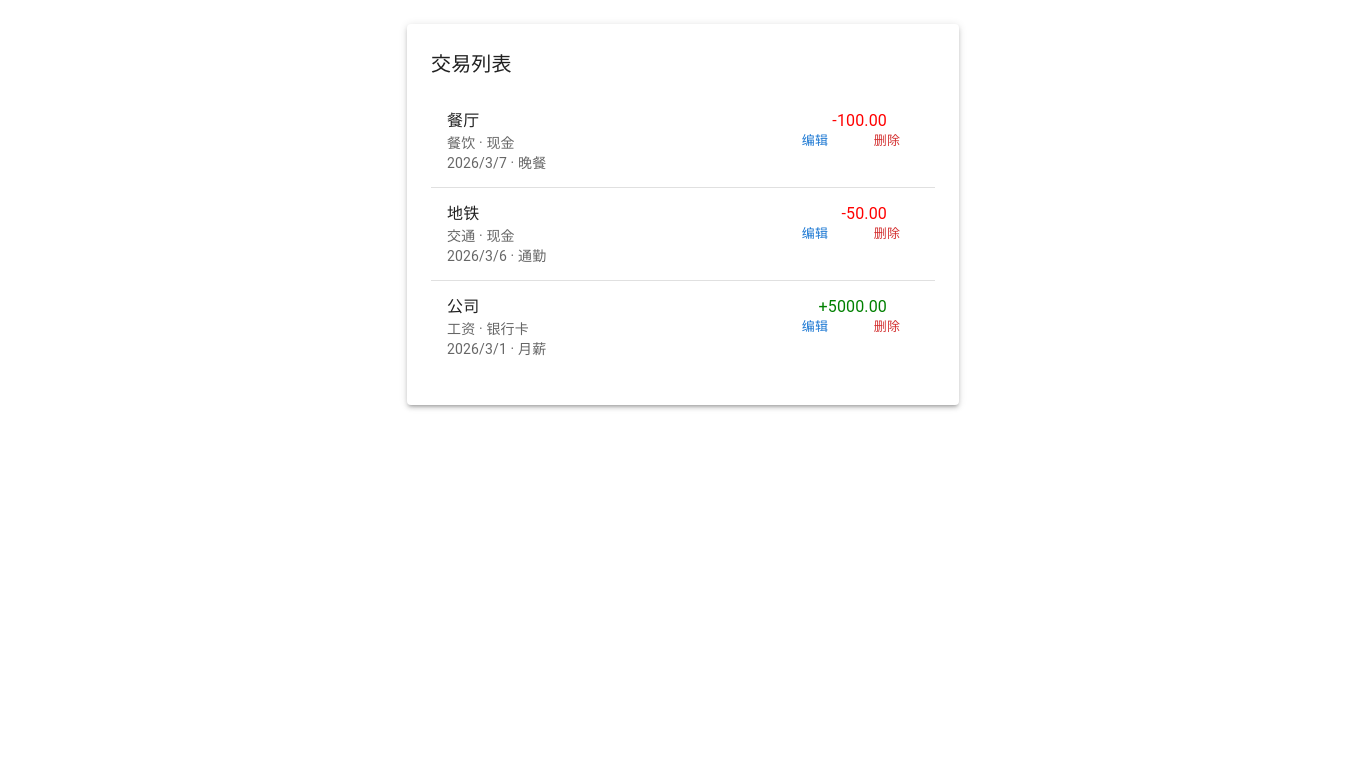
Test case: TransactionList Component › should edit transaction when clicking edit button
The image size is (1366, 768).
Click the button "编辑" in the row of "餐厅".
click(815, 141)  # box [783,126,847,156]
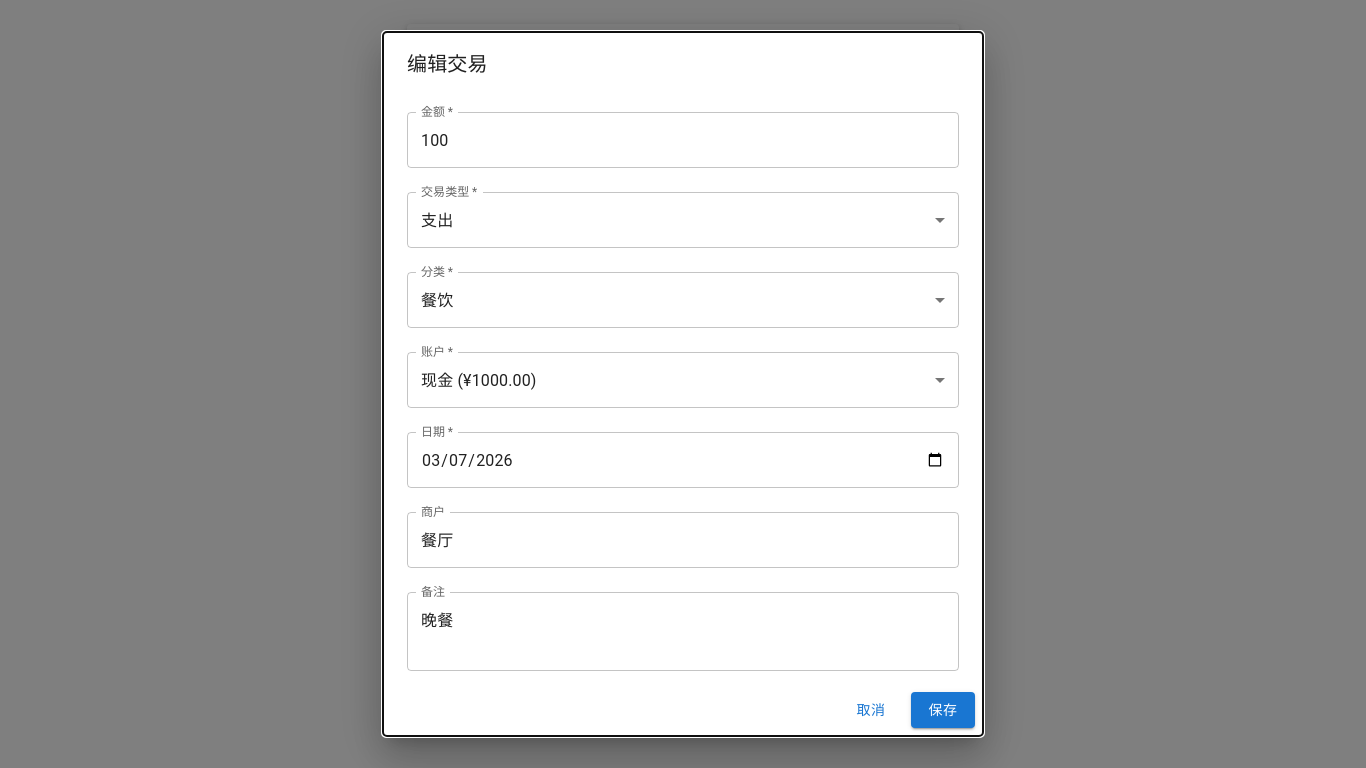
expect the heading "编辑交易" is shown: met, box [407,52,488,76]
